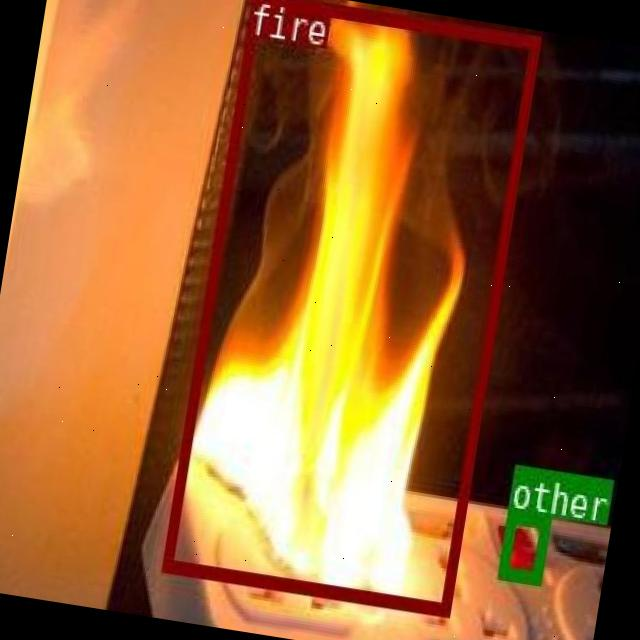fire: (161, 0, 538, 612)
